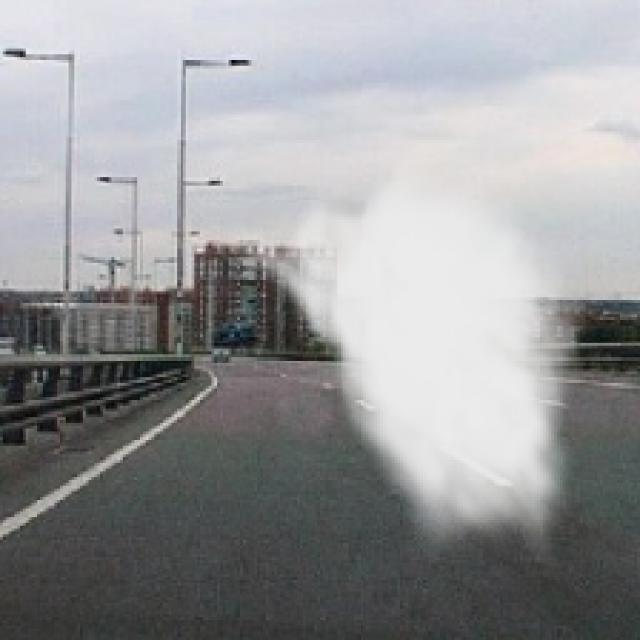smoke: (220, 148, 589, 566)
